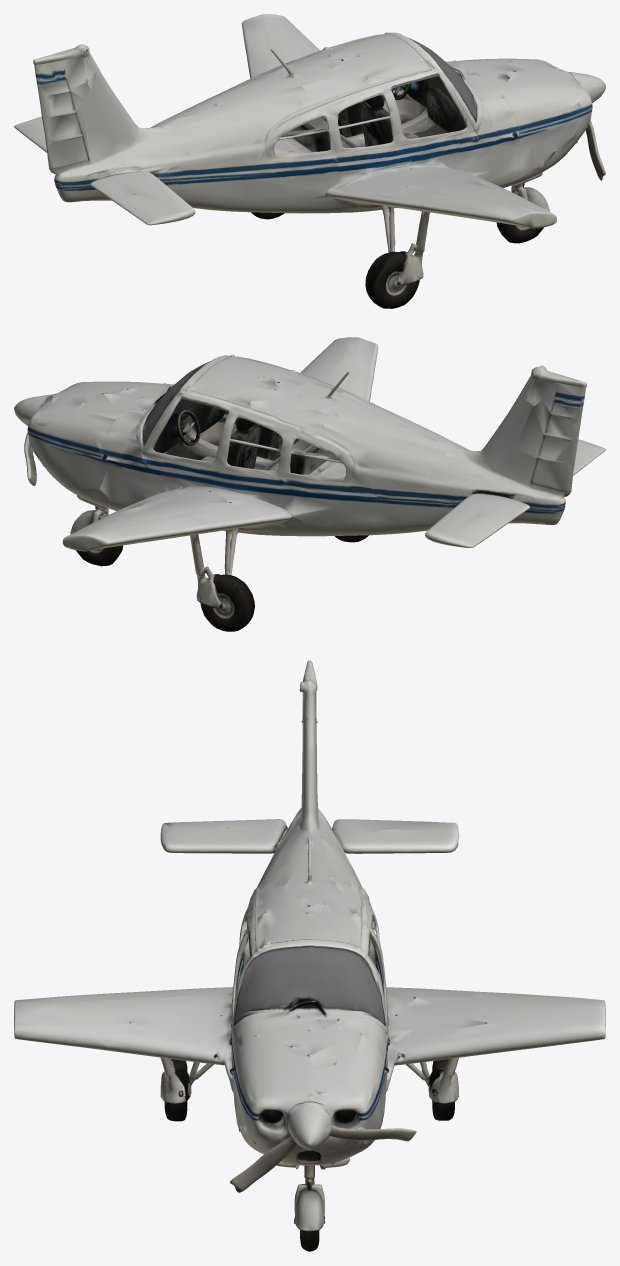
File: avion-tourisme.glb
3 renders of one model, top to bottom at view 1: azimuth 30°, elevation 25°; view 2: azimuth 150°, elevation 25°; view 3: azimuth 270°, elevation 25°, orthographic. The views are drawn at different scales.
Parts seen in each view (by area): view 1: tripo_node_4166f4f5-f840-49c0-b379-d8bfb9fd3f54; view 2: tripo_node_4166f4f5-f840-49c0-b379-d8bfb9fd3f54; view 3: tripo_node_4166f4f5-f840-49c0-b379-d8bfb9fd3f54.
Part boxes in pixels (x1,y1,x2,y2): tripo_node_4166f4f5-f840-49c0-b379-d8bfb9fd3f54: (14, 14, 605, 308); tripo_node_4166f4f5-f840-49c0-b379-d8bfb9fd3f54: (14, 337, 605, 631); tripo_node_4166f4f5-f840-49c0-b379-d8bfb9fd3f54: (14, 660, 605, 1251).
Bounding box in the file's own units: 0.9996 × 0.5085 × 0.8213.
1 material, 1 textured.
